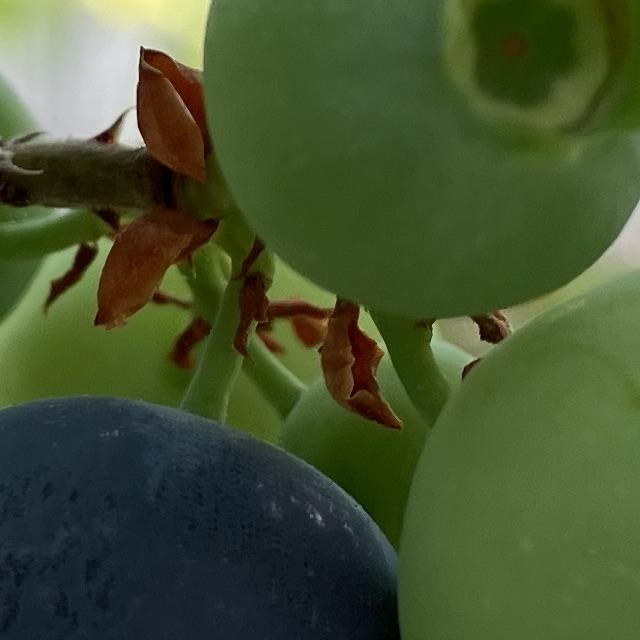Blueberries: (198, 0, 640, 322), (392, 250, 640, 640)
